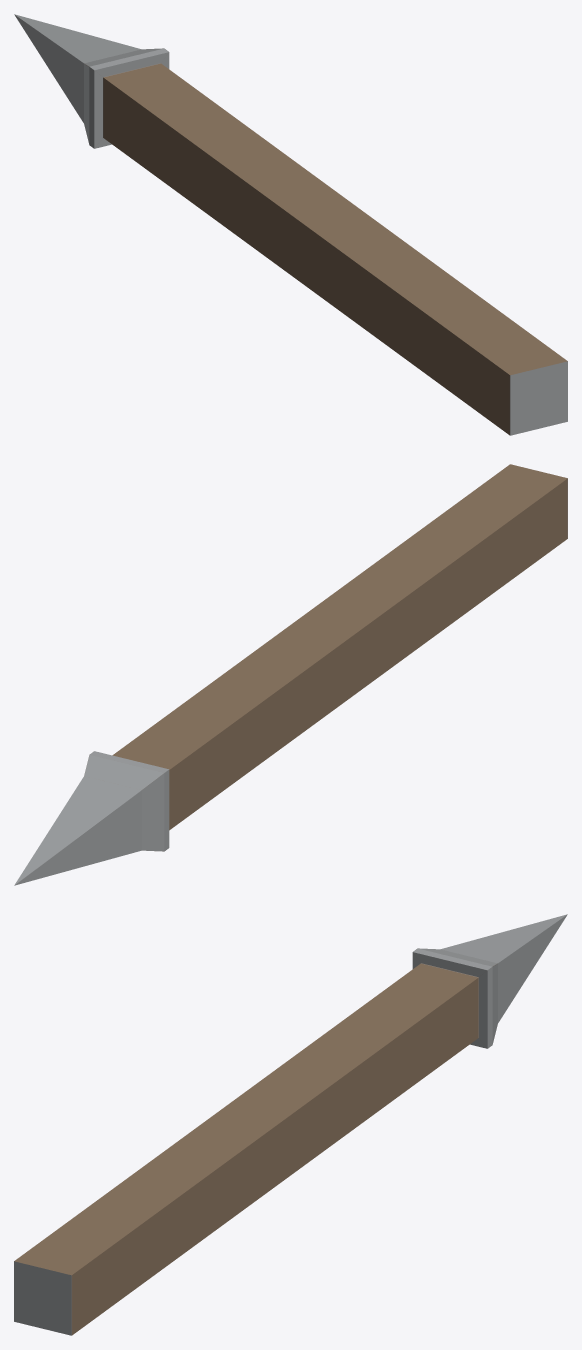
Rendered from javelin(irontip).fbx.
3 renders of one model, top to bottom at view 1: azimuth 30°, elevation 25°; view 2: azimuth 150°, elevation 25°; view 3: azimuth 330°, elevation 25°, orthographic.
Parts seen in each view (by area): view 1: javelin(regular).001; view 2: javelin(regular).001; view 3: javelin(regular).001.
Boxes of the visible parts, x1,y1,x2,y2 form: javelin(regular).001: [14, 14, 567, 435]; javelin(regular).001: [14, 464, 567, 885]; javelin(regular).001: [14, 914, 567, 1335].
Bounding box in the file's own units: 8.99 × 8.99 × 109.
Materials: 1 (1 with a texture image).
